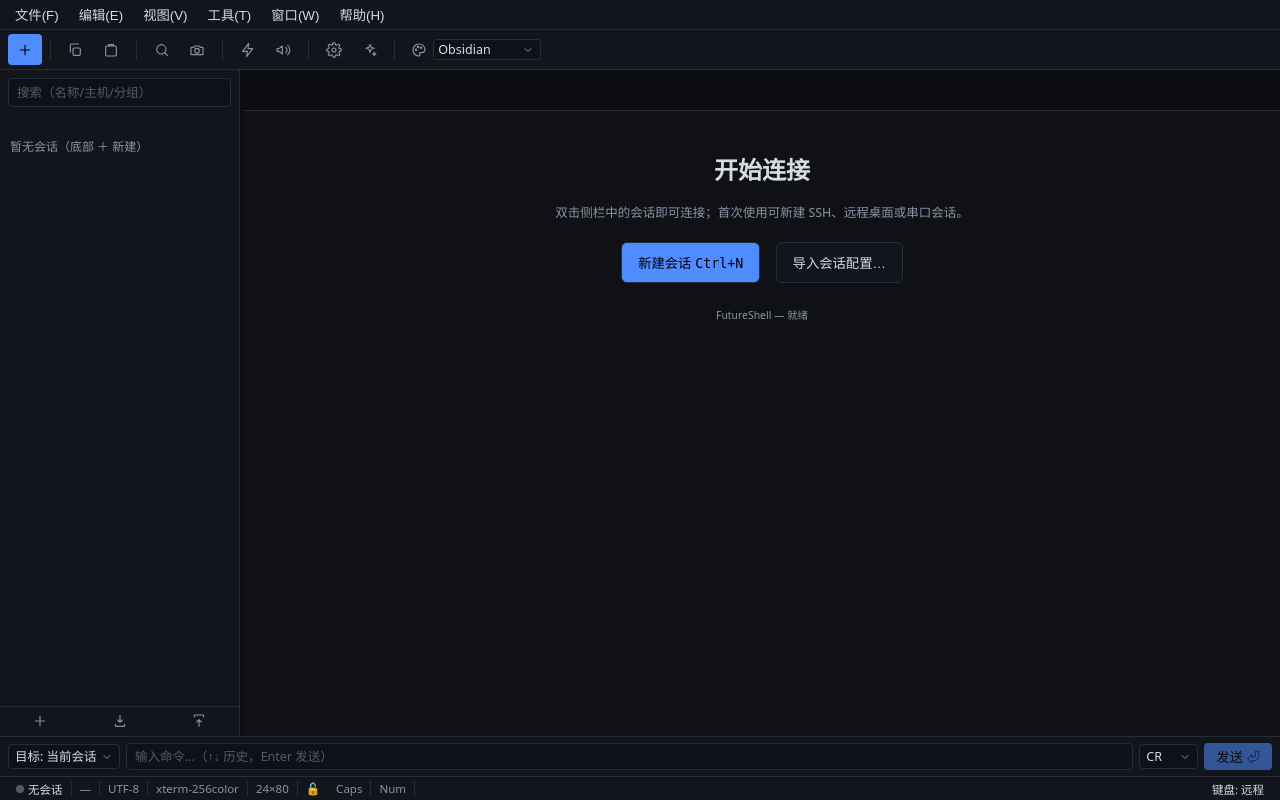
Test: 菜单动作 → 对话框：每一条都真的开出东西 › 工具 → 选项 开出 settings-dialog
The width and height of the screenshot is (1280, 800).
Click the menu item "工具(T)": x=229, y=14 x1=199 y1=2 x2=260 y2=27
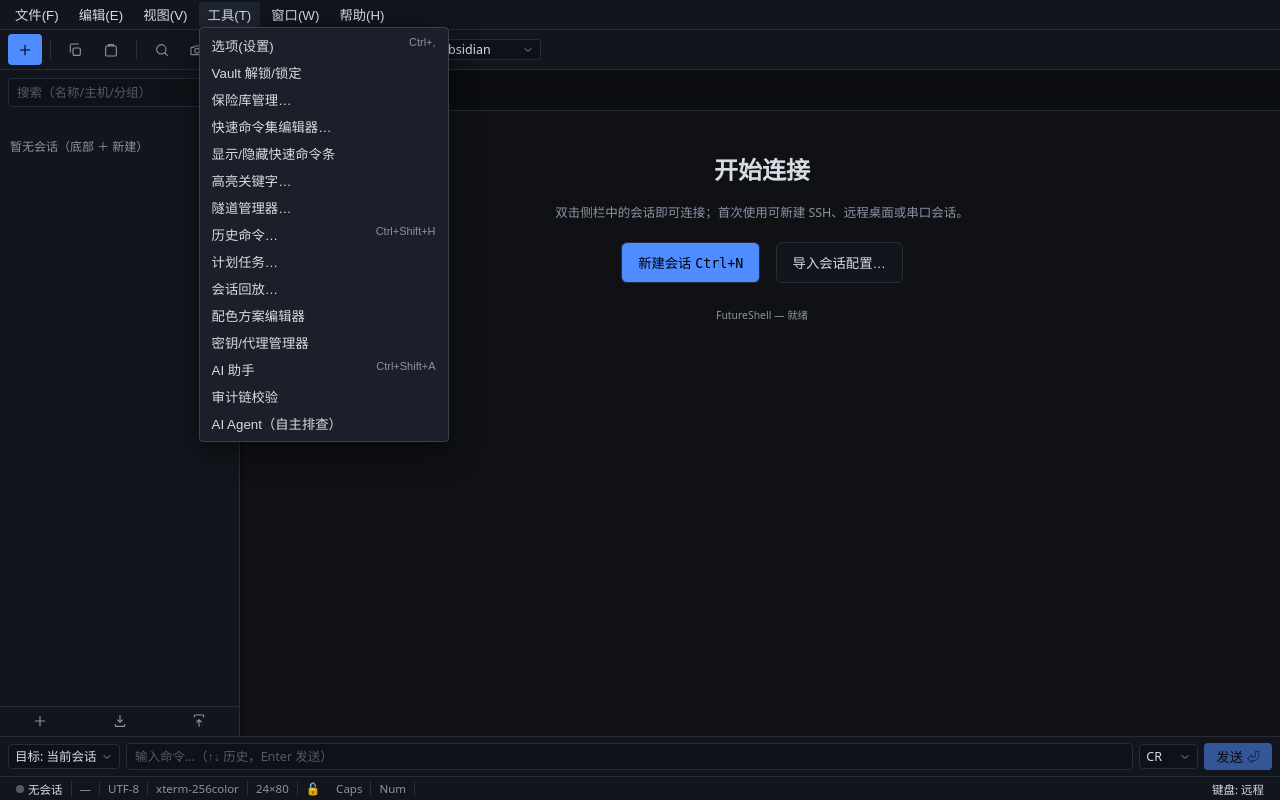
Expected: the menu item "选项(设置) Ctrl+," is shown
Click the menu item "选项(设置) Ctrl+,": x=324, y=46 x1=204 y1=32 x2=444 y2=59
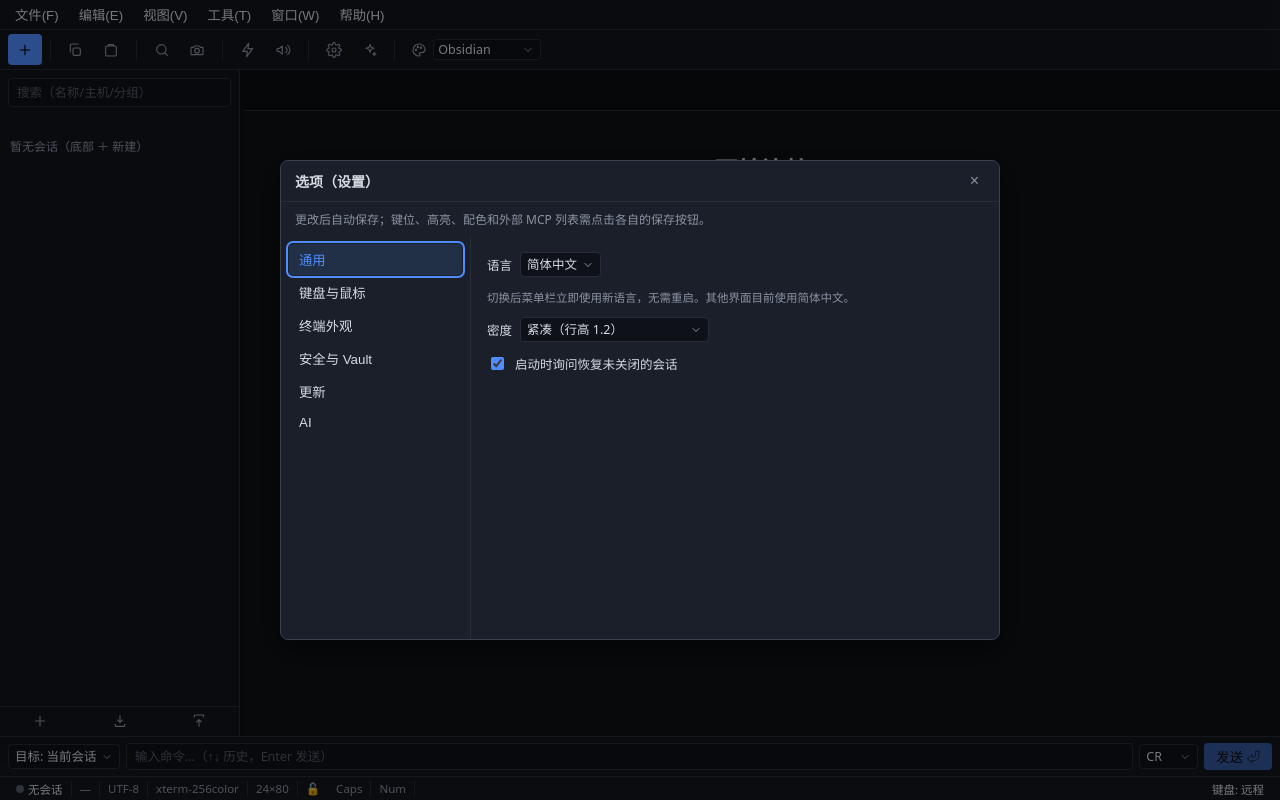
Expected: the dialog with test id "settings-dialog" is shown, x1=280 y1=160 x2=1000 y2=640
